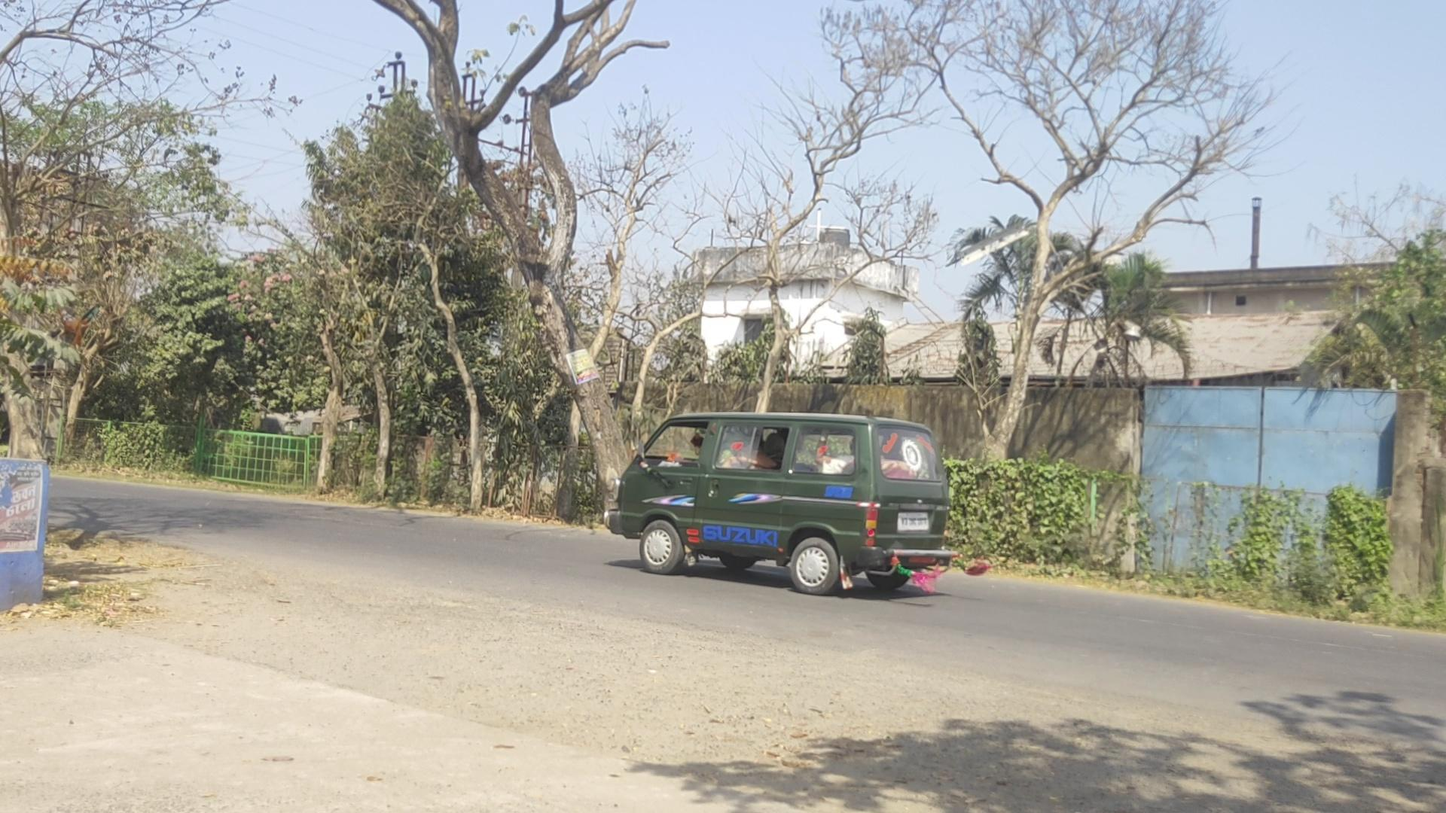van: (602, 411, 959, 597)
